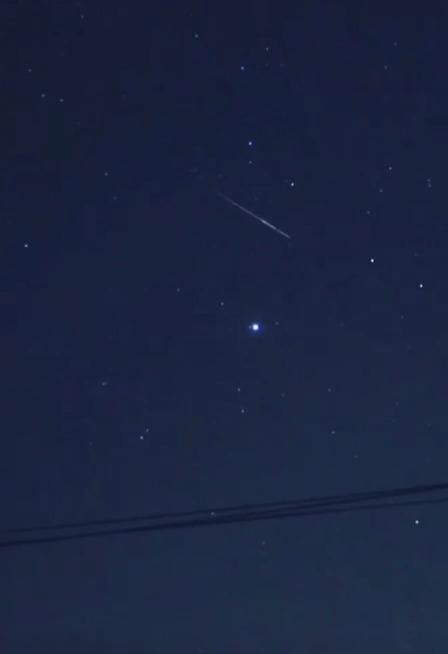meteorite: (209, 196, 301, 242)
